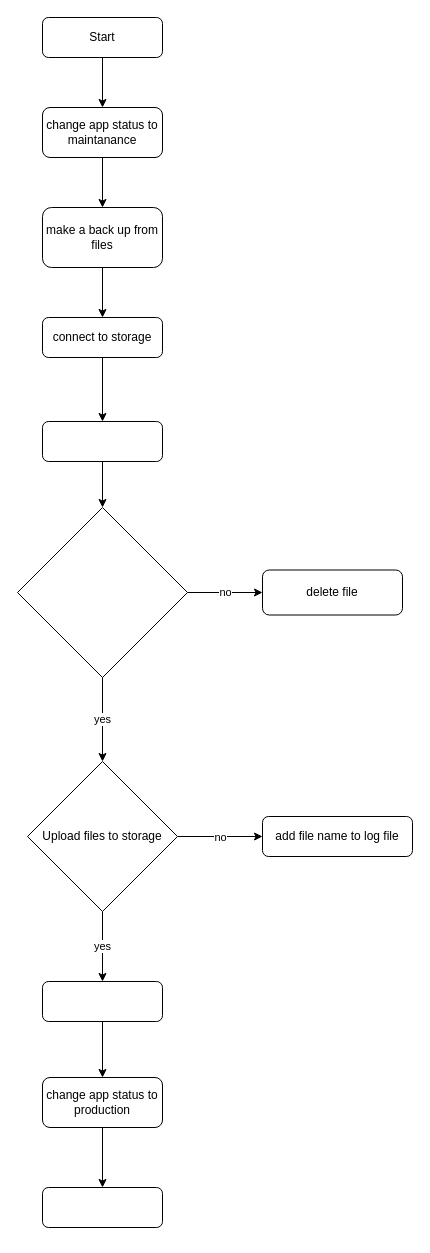
Image size: 430x1253. Some labels were removed from this diagram. Each missing label, with the box of its shape:
change cdn address: (42, 980, 162, 1022)
create avatar for all users avatars: (16, 506, 188, 678)
create bucket: (42, 420, 162, 462)
End: (42, 1186, 162, 1228)
